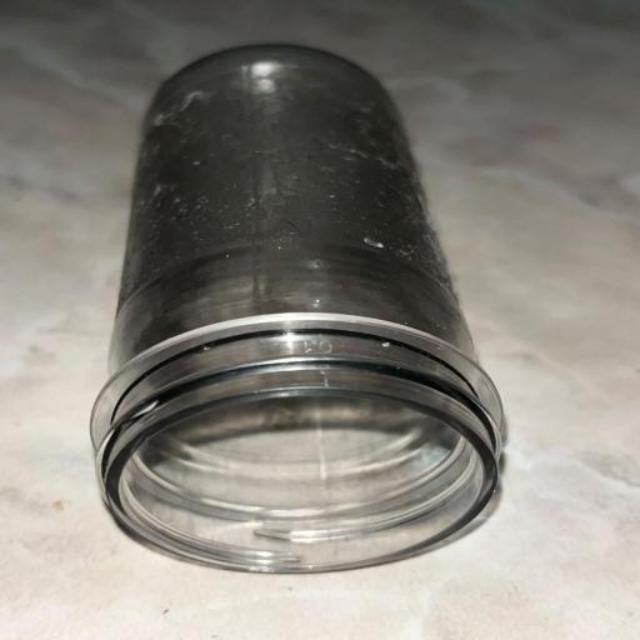PET: (39, 15, 522, 605)
